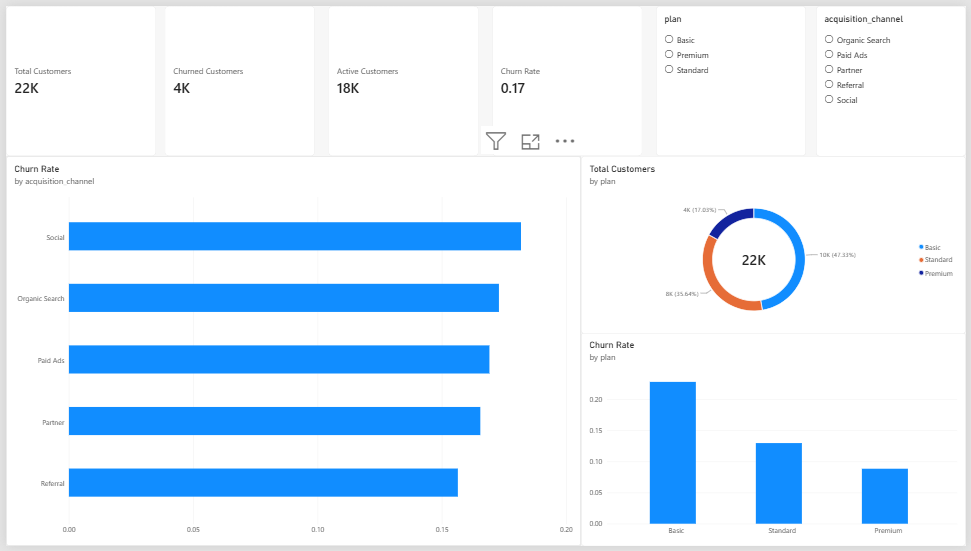

This screenshot's page, from the dashboard's own definition file:
{"tool":"powerbi","page":{"name":"Executive Overview","canvas":[1920,1080],"ordinal":0},"visuals":[{"type":"cardVisual","fields":{"Data":["customers_clean.Total Customers"]},"box":[0,0,300,300],"z":0},{"type":"cardVisual","fields":{"Data":["customers_clean.Churned Customers"]},"box":[317,0,300,300],"z":1},{"type":"cardVisual","fields":{"Data":["customers_clean.Active Customers"]},"box":[644.3,0,300,300],"z":2},{"type":"cardVisual","fields":{"Data":["customers_clean.Churn Rate"]},"box":[973.6,0,300,300],"z":3},{"type":"clusteredColumnChart","title":"Churn Rate by Subscription Plan","fields":{"Category":["customers_clean.plan"],"Y":["customers_clean.Churn Rate"]},"box":[1150.6,652.5,769.8,428.1],"z":4},{"type":"barChart","title":"Churn Rate by Acquisition Channel","fields":{"Category":["customers_clean.acquisition_channel"],"Y":["customers_clean.Churn Rate"]},"box":[0,300.5,1150.6,780.1],"z":5},{"type":"donutChart","fields":{"Category":["customers_clean.plan"],"Y":["customers_clean.Total Customers"]},"box":[1150.6,300.5,769.8,356.1],"z":6},{"type":"listSlicer","fields":{"Values":["customers_clean.plan"]},"box":[1298.8,0,300,300],"z":7},{"type":"listSlicer","fields":{"Values":["customers_clean.acquisition_channel"]},"box":[1619.9,0,300,300.5],"z":8}]}

Visuals, with their boxes in screenshot pixels (x1, y1, x2, y2), scaled from the page's 1920x1080 canvas onto the 971x551 screenshot:
cardVisual - customers_clean.Total Customers: rect(0, 0, 152, 153)
cardVisual - customers_clean.Churned Customers: rect(160, 0, 312, 153)
cardVisual - customers_clean.Active Customers: rect(326, 0, 478, 153)
cardVisual - customers_clean.Churn Rate: rect(492, 0, 644, 153)
"Churn Rate by Subscription Plan" clusteredColumnChart: rect(582, 333, 970, 550)
"Churn Rate by Acquisition Channel" barChart: rect(0, 153, 582, 550)
donutChart - customers_clean.plan x customers_clean.Total Customers: rect(582, 153, 970, 335)
listSlicer - customers_clean.plan: rect(657, 0, 809, 153)
listSlicer - customers_clean.acquisition_channel: rect(819, 0, 970, 153)
